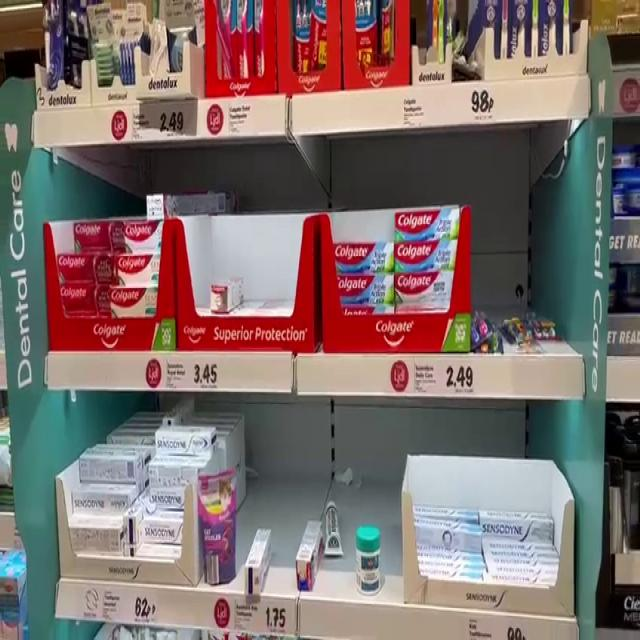Other: (194, 470, 240, 585), (86, 9, 120, 88), (355, 524, 385, 595), (120, 9, 148, 84), (322, 499, 340, 563)
Toothpaste: (405, 503, 483, 551), (479, 506, 558, 548), (55, 277, 114, 327), (323, 270, 402, 306), (105, 280, 163, 328), (390, 236, 465, 273), (64, 516, 128, 559), (393, 270, 465, 306), (320, 240, 398, 273), (77, 447, 143, 486), (243, 525, 275, 603), (393, 208, 463, 243), (55, 246, 114, 285), (295, 511, 324, 590), (113, 249, 166, 290), (120, 218, 168, 262), (69, 218, 126, 253), (138, 511, 193, 547), (207, 270, 249, 317), (71, 486, 134, 517), (155, 428, 215, 458), (147, 458, 203, 487), (142, 486, 198, 512)
